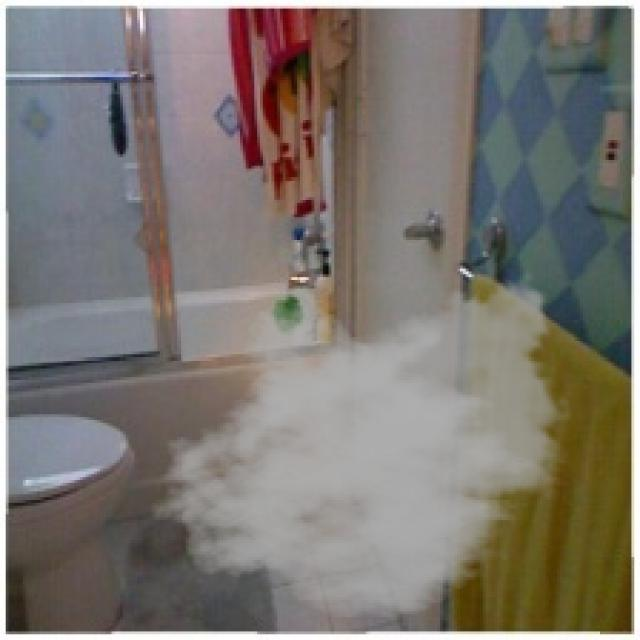smoke: (149, 266, 574, 620)
